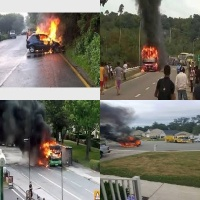fire: (36, 16, 61, 53), (39, 141, 61, 165), (140, 45, 158, 72), (120, 136, 140, 147)
